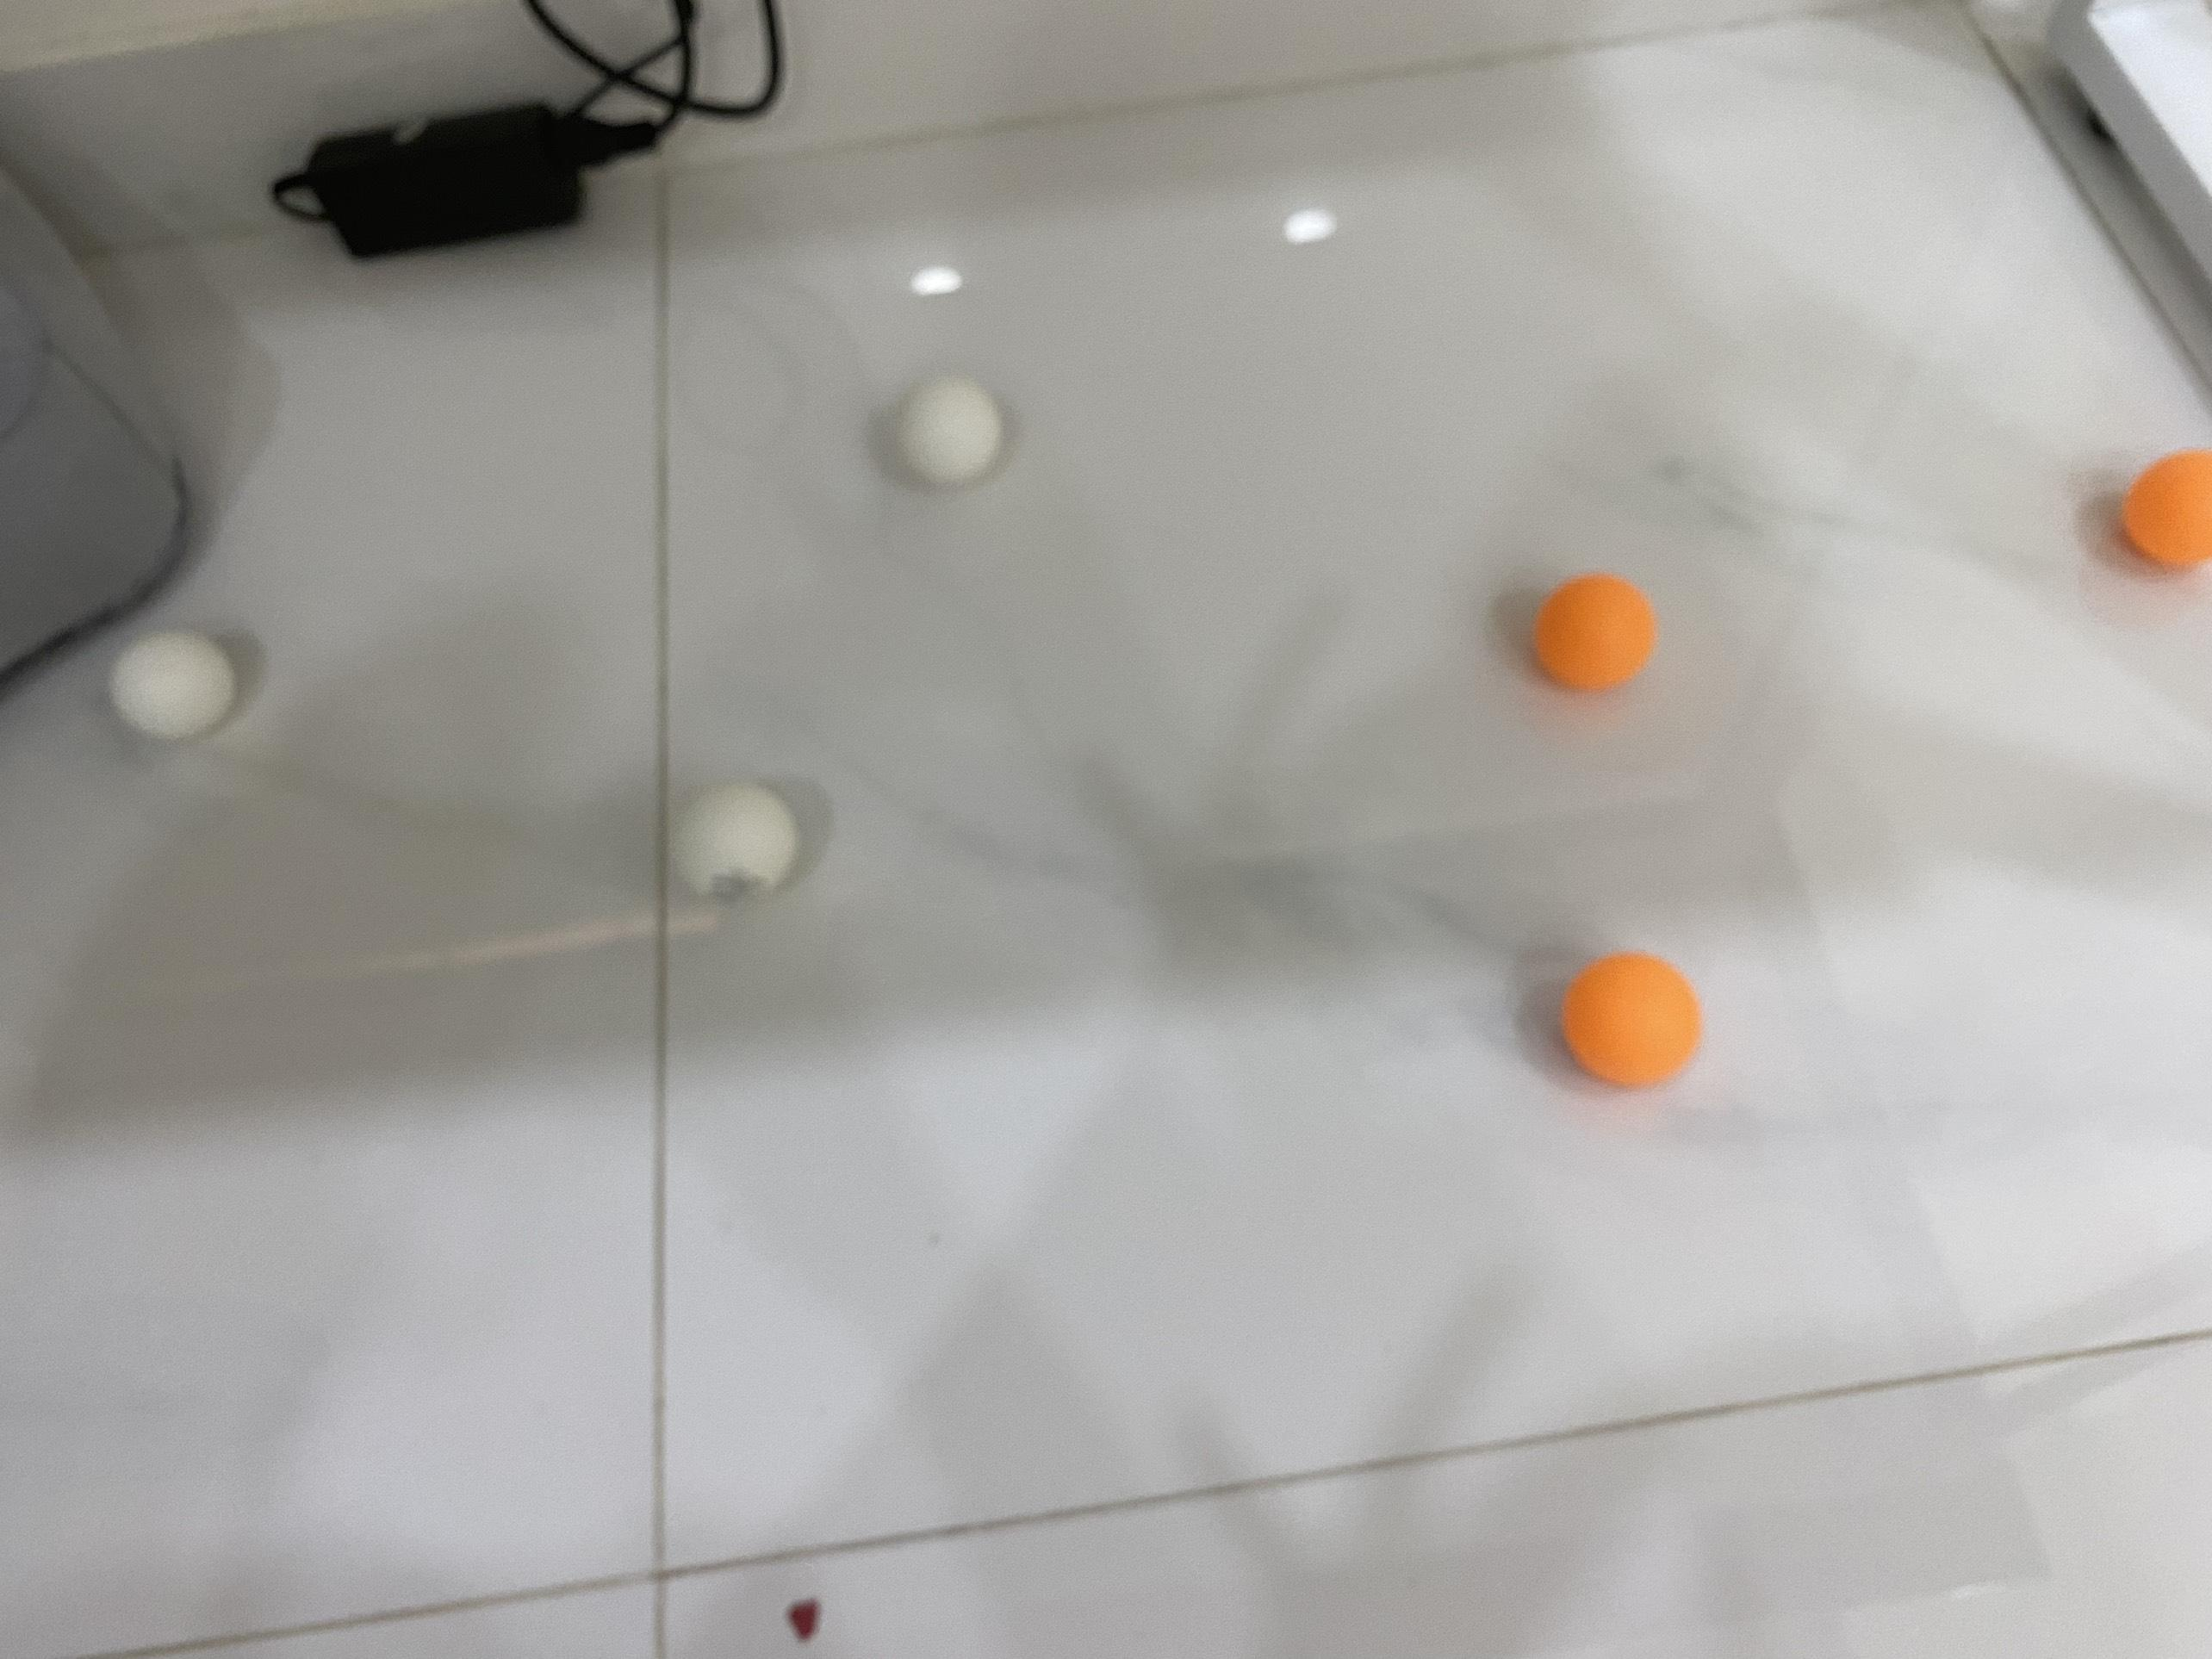oball: (1561, 948, 1707, 1093), (1531, 573, 1665, 695), (2121, 446, 2212, 573)
